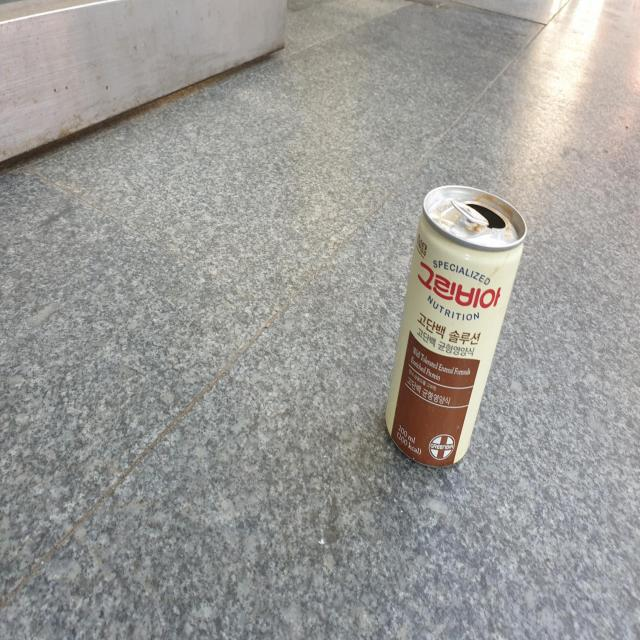can: (386, 185, 527, 467)
